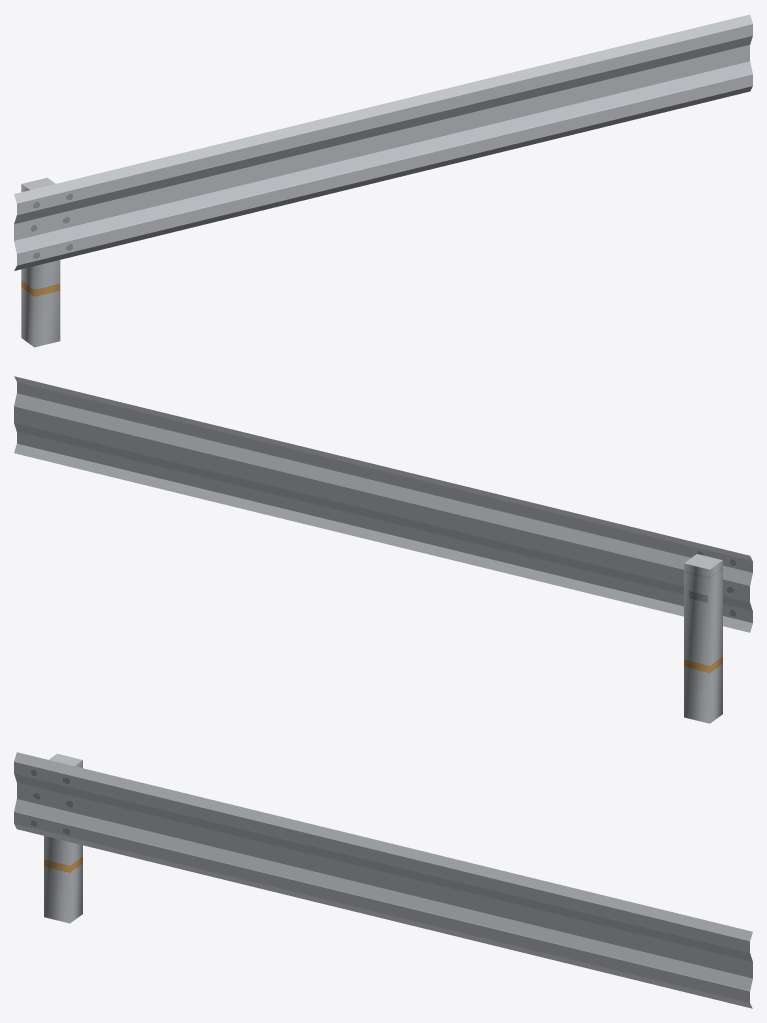
Rendered from 02df_Guardrail_5m.glb.
3 renders of one model, top to bottom at view 1: azimuth 30°, elevation 25°; view 2: azimuth 150°, elevation 25°; view 3: azimuth 330°, elevation 25°, orthographic.
Parts seen in each view (by area): view 1: part_0; view 2: part_0; view 3: part_0.
Part boxes in pixels (x1,y1,x2,y2): part_0: (14,14,752,347); part_0: (14,376,752,723); part_0: (14,752,752,1008).
Bounding box in the file's own units: 5 × 1.05 × 0.2269.
Materials: 1 (1 with a texture image).
